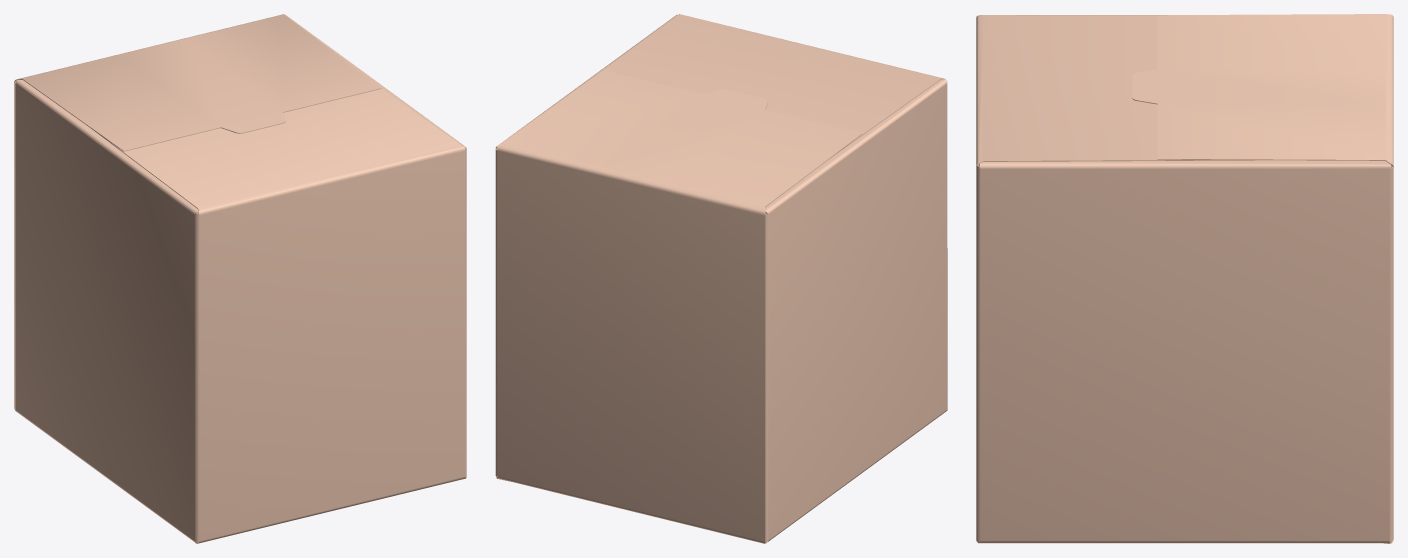
3 views of the same model, side by side, from view 1: azimuth 30°, elevation 25°; view 2: azimuth 150°, elevation 25°; view 3: azimuth 270°, elevation 25° (orthographic). The views are drawn at different scales.
Visible parts, largest first — view 1: split_parent_0; view 2: split_parent_0; view 3: split_parent_0.
Boxes of the visible parts, x1,y1,x2,y2 form: split_parent_0: (14, 14, 466, 543); split_parent_0: (495, 14, 947, 543); split_parent_0: (976, 14, 1393, 543).
Size of the model in its own units: 0.8501 by 1 by 0.9908.
